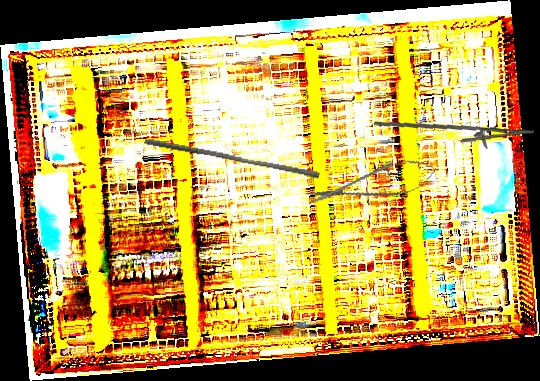Micro Scissor: (303, 152, 441, 216)
Needle Holder: (373, 110, 536, 157)
Pusher: (143, 138, 321, 179)
